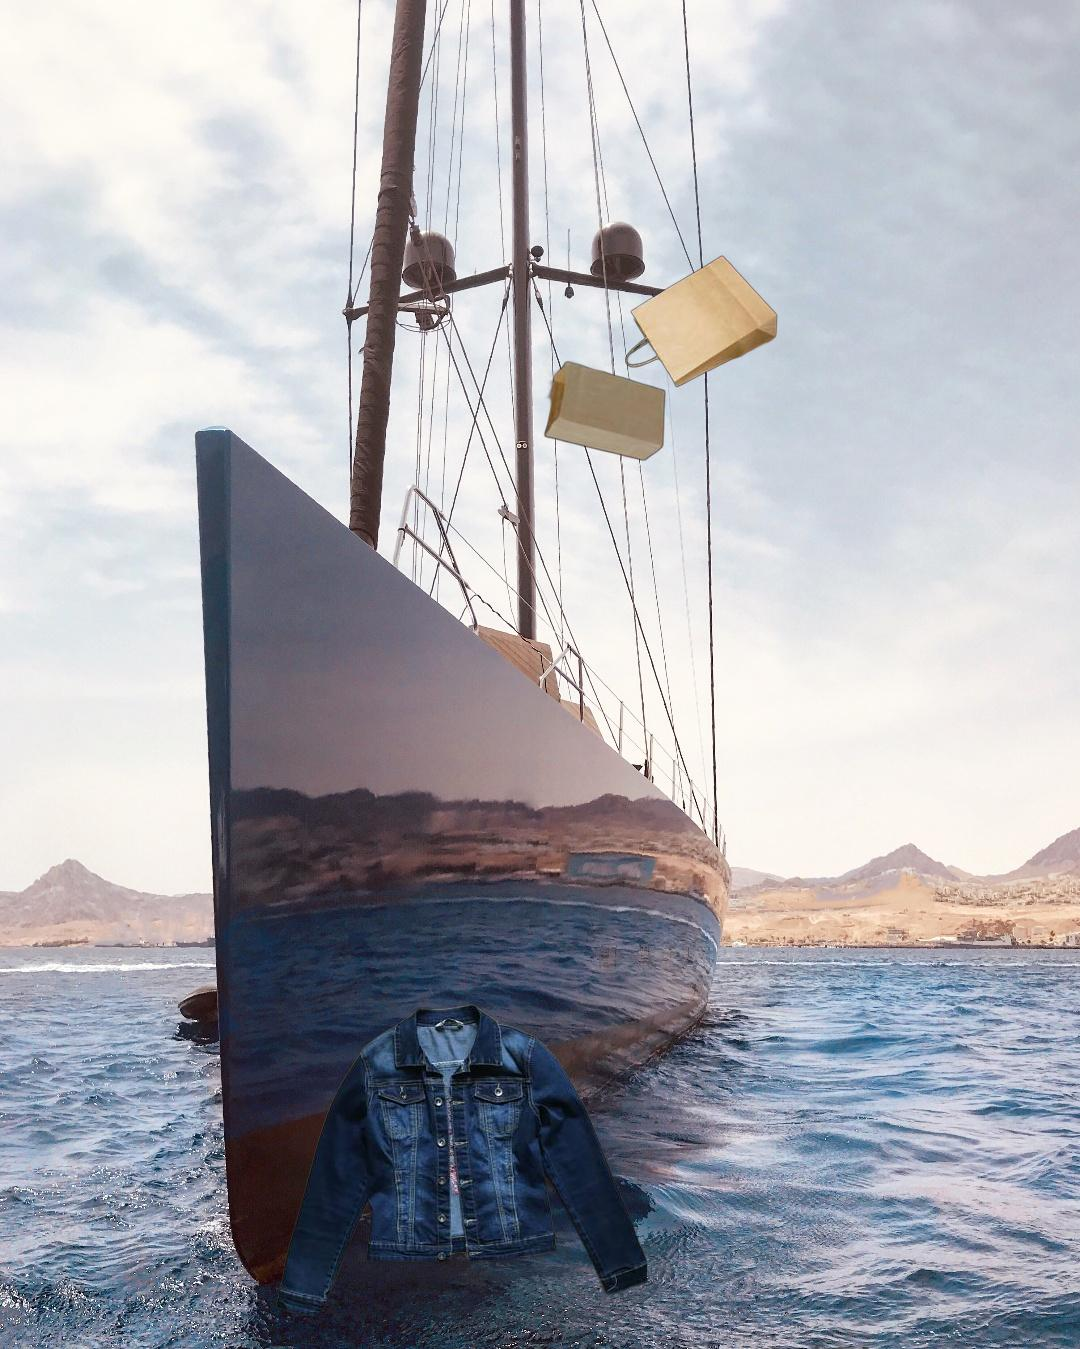clothes: (273, 1001, 647, 1321), (700, 1347, 983, 1349)
paper-bag: (542, 238, 823, 462)
